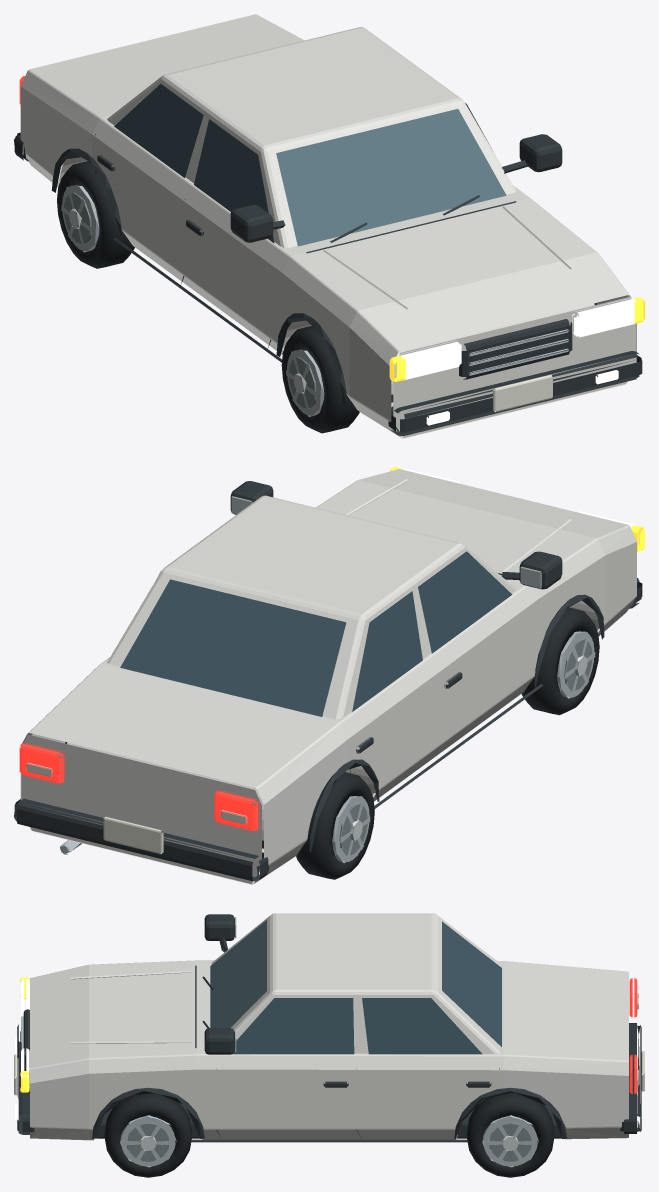
File: sedan.glb
3 renders of one model, top to bottom at view 1: azimuth 30°, elevation 25°; view 2: azimuth 150°, elevation 25°; view 3: azimuth 270°, elevation 25°, orthographic. The views are drawn at different scales.
Parts seen in each view (by area): view 1: BodyMesh_Paint_Ivory, ShapeSafe_BodyMesh_Paint_Ivory, ShapeSafe_BodyMesh_Glass_Reflection, BodyMesh_Trim_Graphite, ShapeSafe_BodyMesh_Glass_StylizedOpaque, Wheel_RR_Mesh_Rubber_Tires, Wheel_FR_Mesh_Rubber_Tires, ShapeSafe_BodyMesh_Trim_Graphite, Headlamp_L, Headlamp_R, BodyMesh_Plate_Bone, BodyMesh_Metal_SatinAluminum (+4 smaller); view 2: BodyMesh_Paint_Ivory, ShapeSafe_BodyMesh_Glass_StylizedOpaque, ShapeSafe_BodyMesh_Paint_Ivory, BodyMesh_Trim_Graphite, Wheel_RR_Mesh_Rubber_Tires, Wheel_FR_Mesh_Rubber_Tires, BodyMesh_Plate_Bone, ShapeSafe_BodyMesh_Trim_Graphite, TailLamp_-1, TailLamp_1, Wheel_RR_Mesh_Metal_SatinAluminum, Wheel_FR_Mesh_Metal_SatinAluminum (+3 smaller); view 3: BodyMesh_Paint_Ivory, ShapeSafe_BodyMesh_Paint_Ivory, ShapeSafe_BodyMesh_Glass_StylizedOpaque, BodyMesh_Trim_Graphite, ShapeSafe_BodyMesh_Glass_Reflection, Wheel_FL_Mesh_Rubber_Tires, Wheel_RL_Mesh_Rubber_Tires, ShapeSafe_BodyMesh_Trim_Graphite, Wheel_FL_Mesh_Metal_SatinAluminum, Wheel_RL_Mesh_Metal_SatinAluminum, Wheel_FL_Mesh_Brake_Disc, Wheel_RL_Mesh_Brake_Disc (+1 smaller).
Part boxes in pixels (box(x1,y1,x2,y2)): BodyMesh_Paint_Ivory: box(20, 14, 636, 438); ShapeSafe_BodyMesh_Paint_Ivory: box(107, 27, 516, 247); ShapeSafe_BodyMesh_Glass_Reflection: box(276, 109, 506, 246); BodyMesh_Trim_Graphite: box(14, 132, 642, 435); ShapeSafe_BodyMesh_Glass_StylizedOpaque: box(114, 84, 491, 242); Wheel_RR_Mesh_Rubber_Tires: box(57, 161, 134, 268); Wheel_FR_Mesh_Rubber_Tires: box(281, 326, 359, 433); ShapeSafe_BodyMesh_Trim_Graphite: box(230, 134, 562, 242); Headlamp_L: box(572, 297, 635, 337); Headlamp_R: box(395, 340, 461, 380); BodyMesh_Plate_Bone: box(493, 374, 552, 412); BodyMesh_Metal_SatinAluminum: box(468, 139, 568, 375); BodyMesh_Paint_Ivory: box(20, 469, 636, 884); ShapeSafe_BodyMesh_Glass_StylizedOpaque: box(120, 551, 512, 716); ShapeSafe_BodyMesh_Paint_Ivory: box(107, 495, 515, 719); BodyMesh_Trim_Graphite: box(14, 572, 642, 881); Wheel_RR_Mesh_Rubber_Tires: box(296, 772, 374, 879); Wheel_FR_Mesh_Rubber_Tires: box(521, 607, 599, 715); BodyMesh_Plate_Bone: box(26, 762, 247, 853); ShapeSafe_BodyMesh_Trim_Graphite: box(230, 481, 562, 589); TailLamp_-1: box(214, 790, 259, 831); TailLamp_1: box(19, 743, 64, 783); Wheel_RR_Mesh_Metal_SatinAluminum: box(332, 796, 370, 862); Wheel_FR_Mesh_Metal_SatinAluminum: box(557, 631, 595, 698); BodyMesh_Paint_Ivory: box(29, 960, 628, 1140); ShapeSafe_BodyMesh_Paint_Ivory: box(211, 913, 500, 1053); ShapeSafe_BodyMesh_Glass_StylizedOpaque: box(232, 921, 501, 1054); BodyMesh_Trim_Graphite: box(17, 937, 641, 1142); ShapeSafe_BodyMesh_Glass_Reflection: box(210, 920, 266, 1027); Wheel_FL_Mesh_Rubber_Tires: box(104, 1093, 191, 1177); Wheel_RL_Mesh_Rubber_Tires: box(467, 1092, 554, 1177); ShapeSafe_BodyMesh_Trim_Graphite: box(204, 914, 234, 1054); Wheel_FL_Mesh_Metal_SatinAluminum: box(120, 1115, 176, 1167); Wheel_RL_Mesh_Metal_SatinAluminum: box(482, 1115, 538, 1167); Wheel_FL_Mesh_Brake_Disc: box(127, 1123, 169, 1161); Wheel_RL_Mesh_Brake_Disc: box(489, 1123, 531, 1161).
Size of the model in its own units: 2.23 by 1.47 by 4.77.
